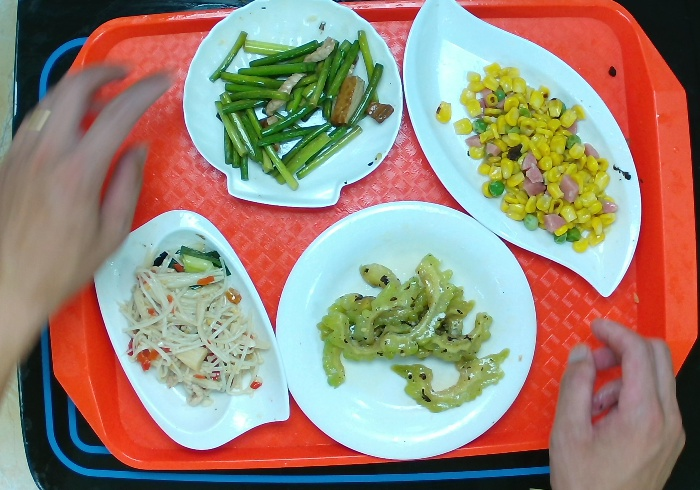RJxy-Bei_Ke_Wan: (179, 1, 409, 213)
RJxy-Jian_Jiao_Fang_Die: (90, 206, 297, 455)
RJxy-Jian_Jiao_Pan: (400, 1, 647, 300)
RJxy-Yuan_Pan: (274, 198, 542, 461)
